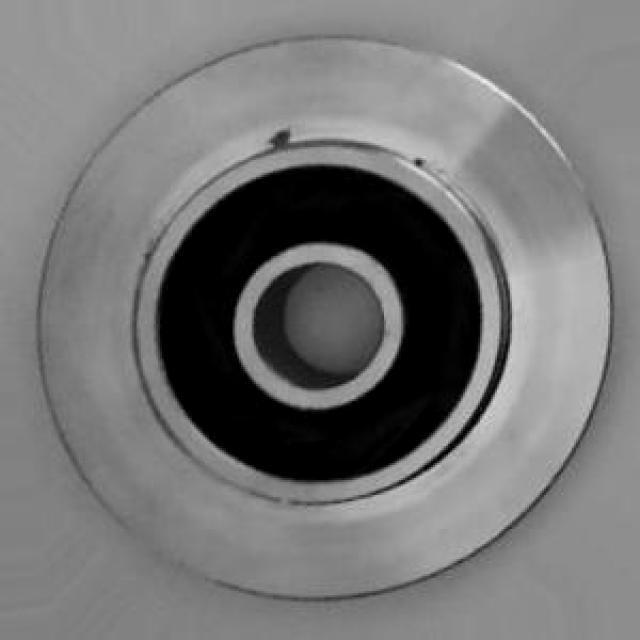Defect: (268, 122, 297, 154)
